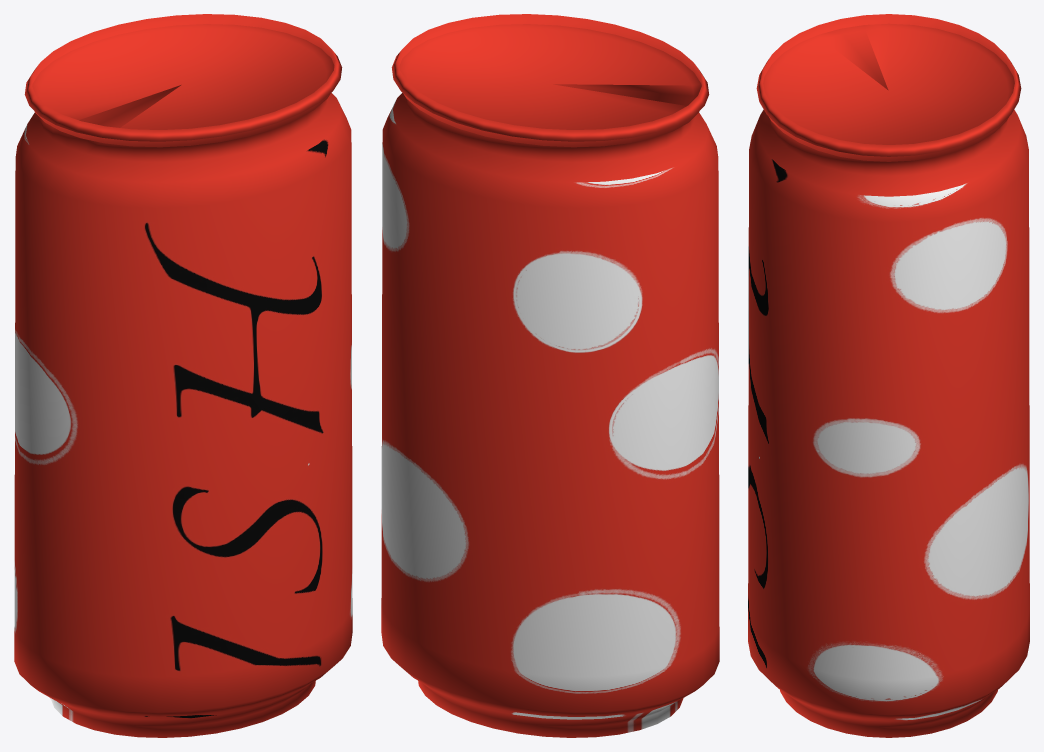
File: IshSodaCanfbx.fbx
3 renders of one model, left to right at view 1: azimuth 30°, elevation 25°; view 2: azimuth 150°, elevation 25°; view 3: azimuth 270°, elevation 25°, orthographic. The views are drawn at different scales.
Parts seen in each view (by area): view 1: Cylinder; view 2: Cylinder; view 3: Cylinder.
Part boxes in pixels (<box>): Cylinder: <box>14,14,352,737</box>; Cylinder: <box>381,14,719,737</box>; Cylinder: <box>748,14,1029,737</box>.
Bounding box in the file's own units: 245 × 471 × 200.
